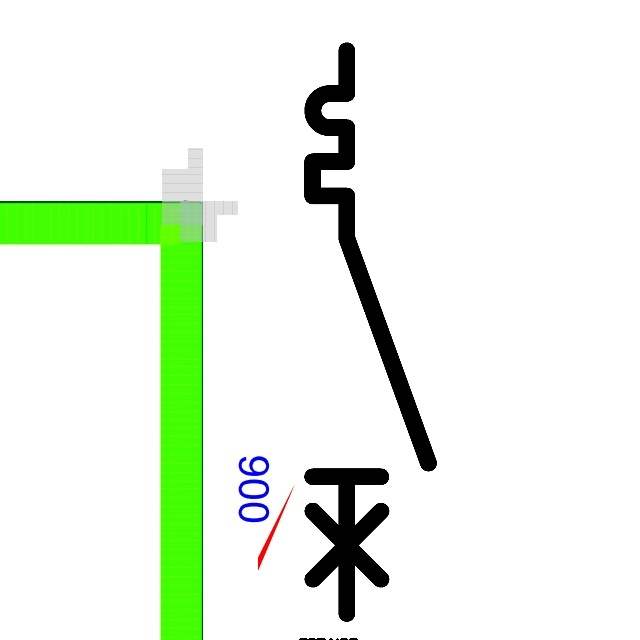interruptor_termomagnetico: (298, 36, 443, 628)
